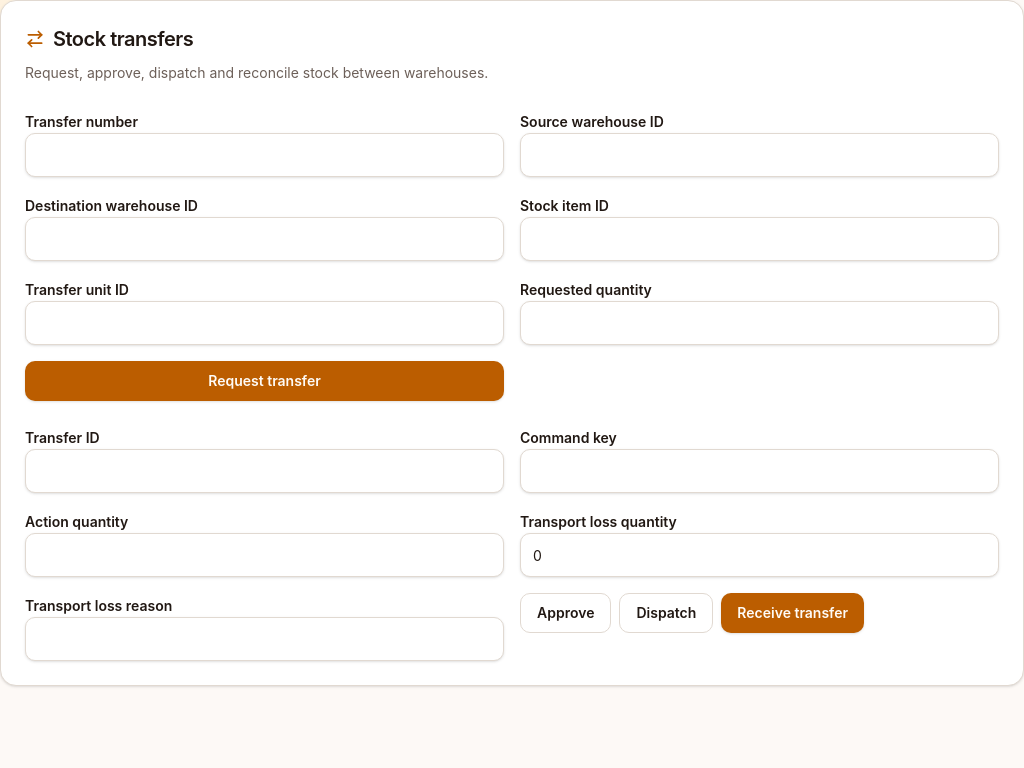
stock transfer lifecycle › requests a transfer and announces pending state
The width and height of the screenshot is (1024, 768).
Type "TR-001" into the field labelled "Transfer number" at (264, 155), box [25,133,504,177]
Type "s" into the field labelled "Source warehouse ID" at (760, 155), box [520,133,999,177]
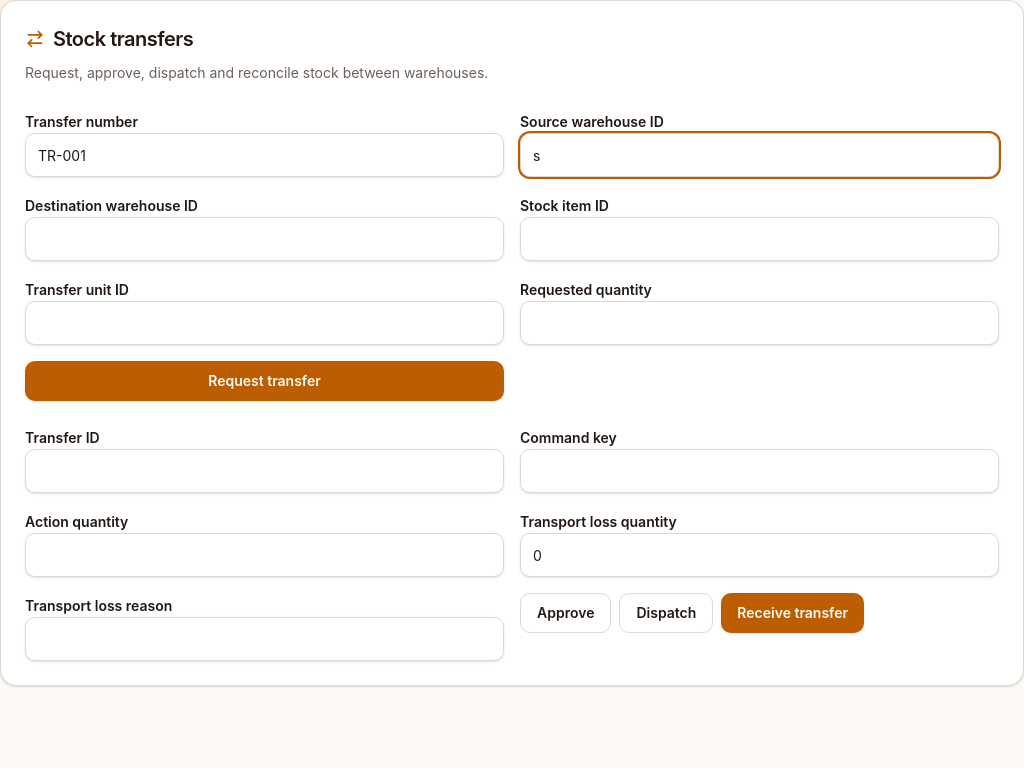
Type "d" into the field labelled "Destination warehouse ID" at (264, 239), box [25,217,504,261]
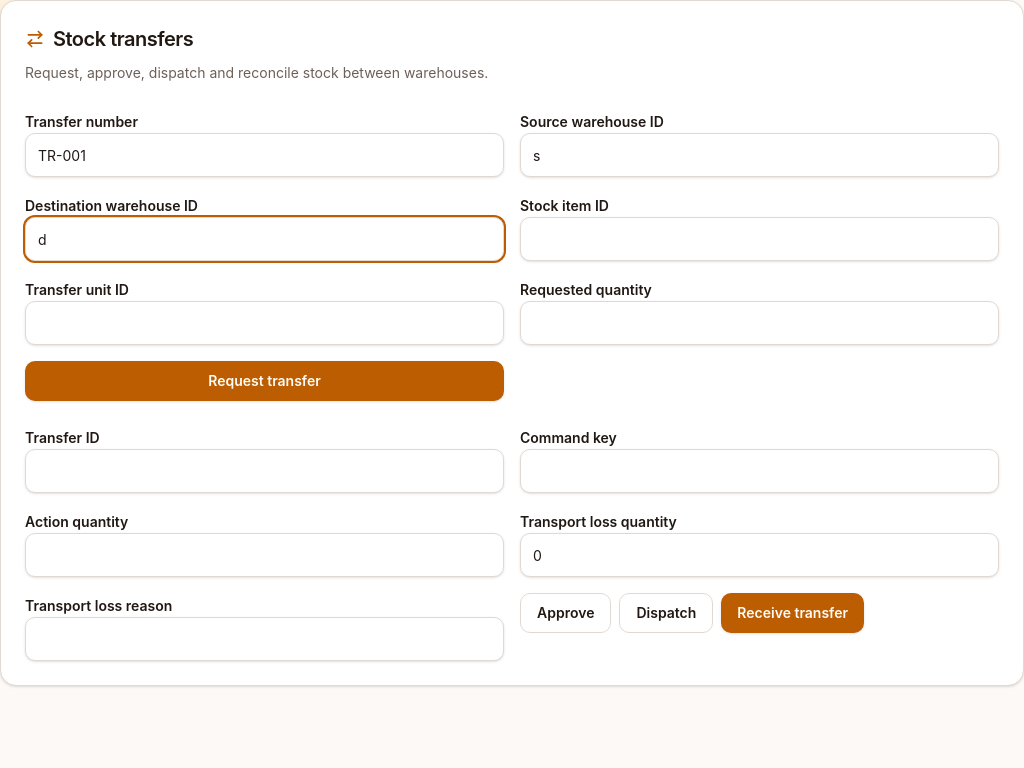
Type "i" into the field labelled "Stock item ID" at (760, 239), box [520,217,999,261]
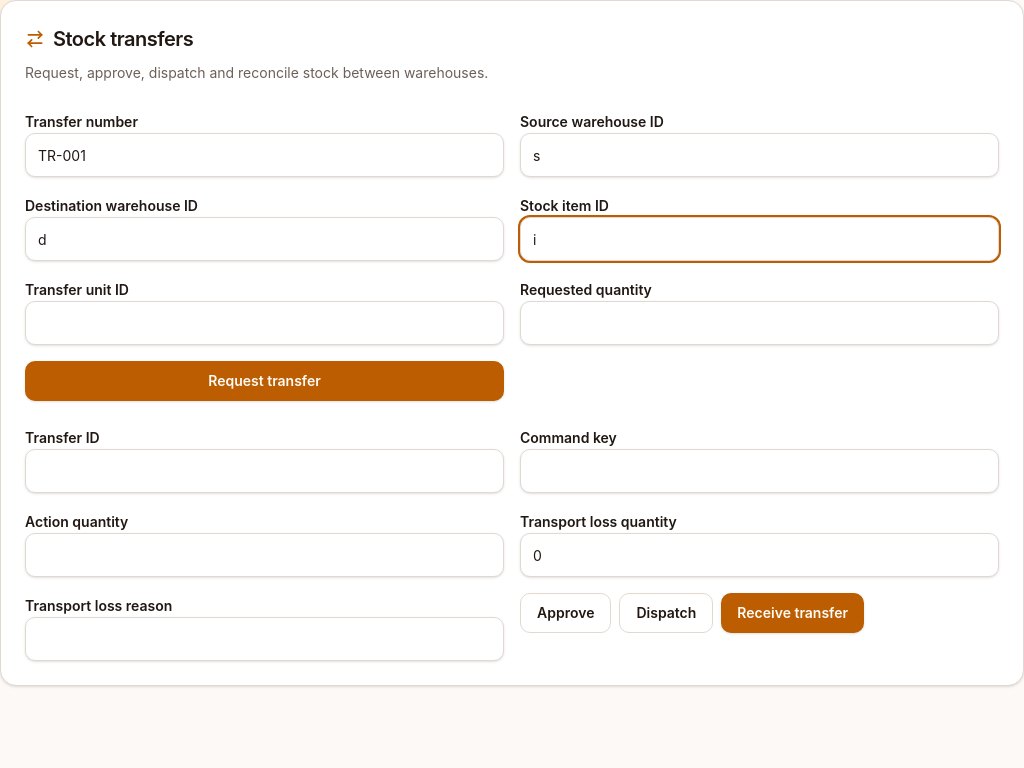
Type "u" into the field labelled "Transfer unit ID" at (264, 323), box [25,301,504,345]
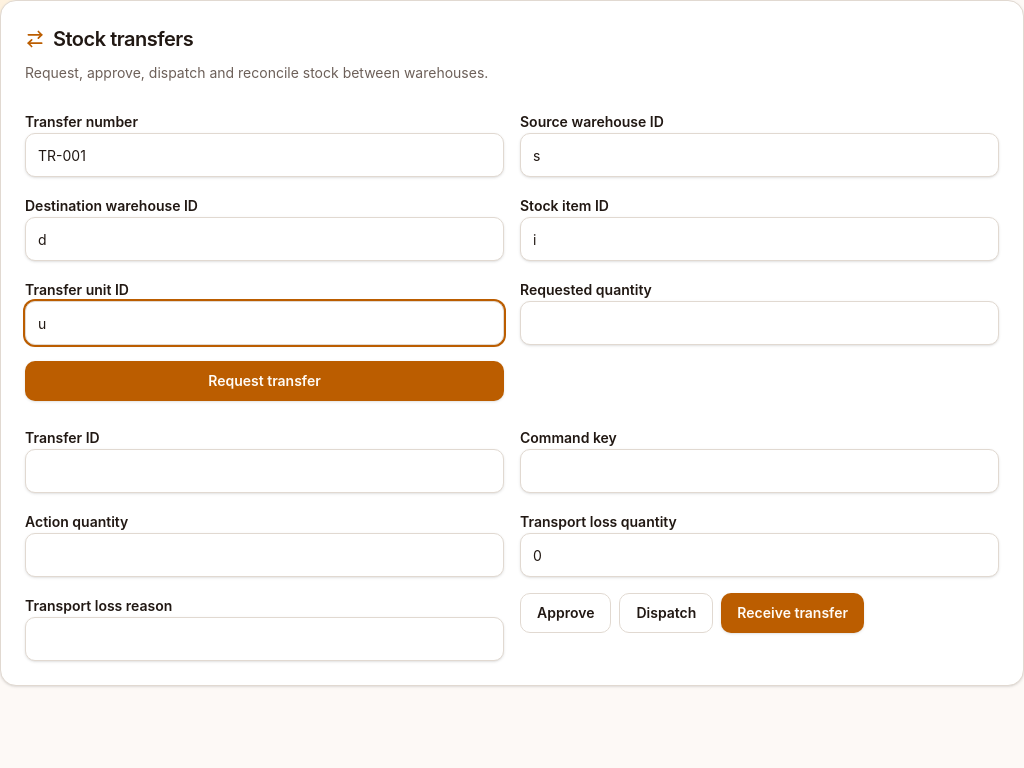
Type "5" into the field labelled "Requested quantity" at (760, 323), box [520,301,999,345]
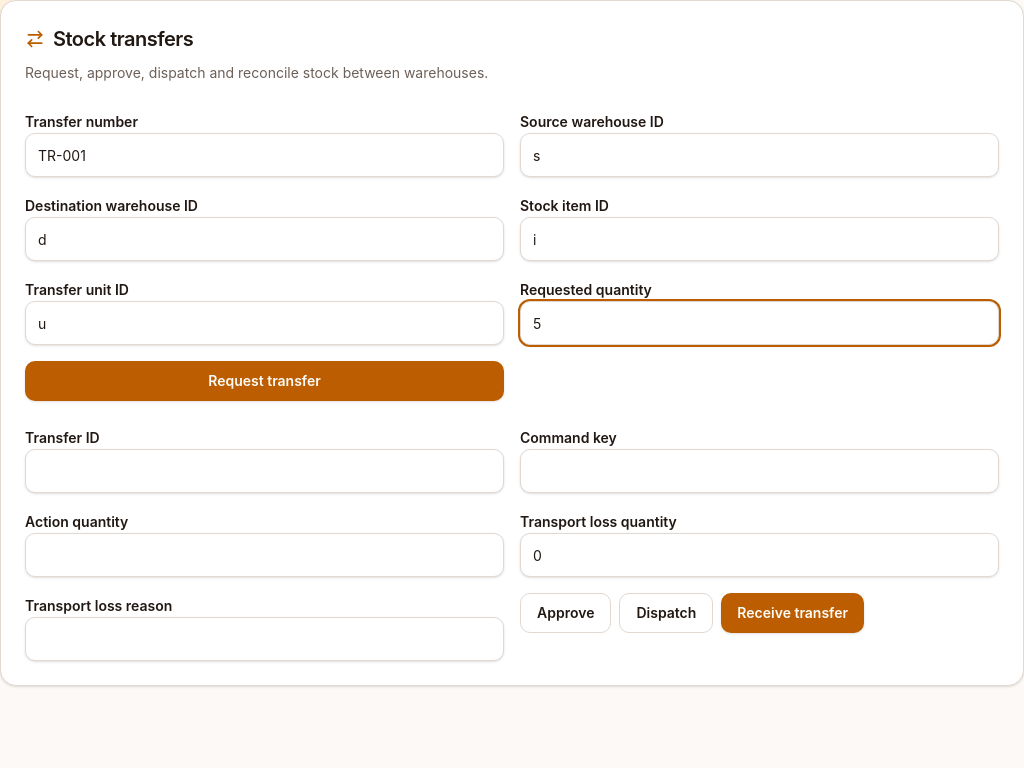
Click the button "Request transfer" at (264, 381), box [25,361,504,401]
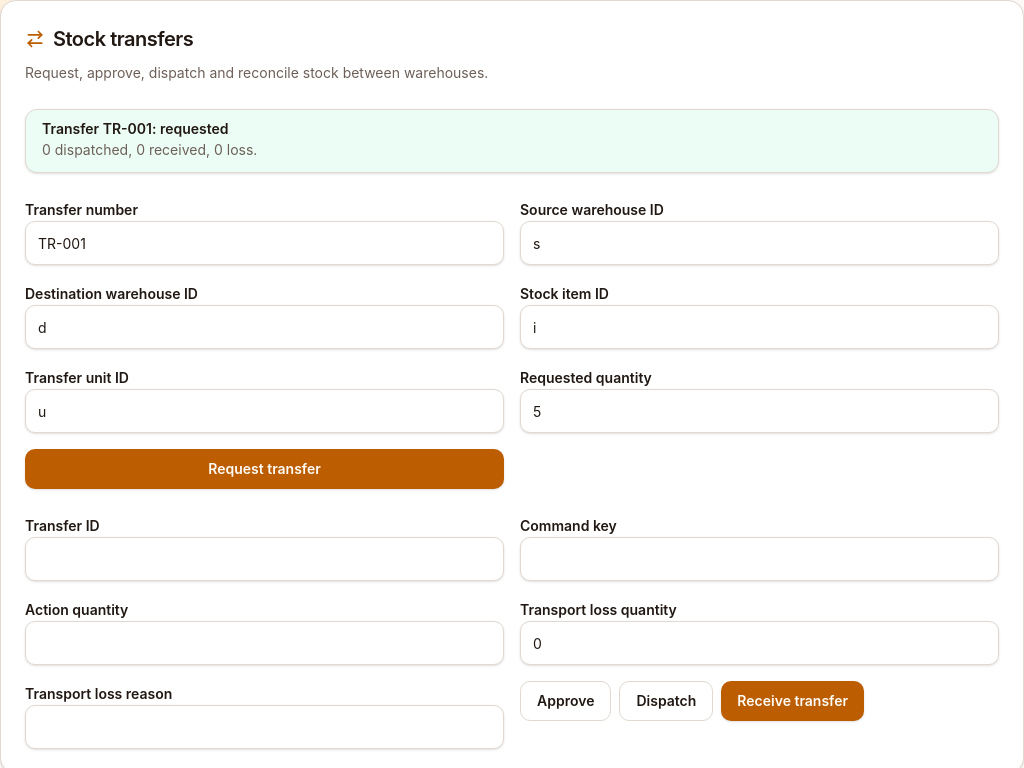
Now the heading "Transfer TR-001: requested" is shown, box [42,120,229,137]
